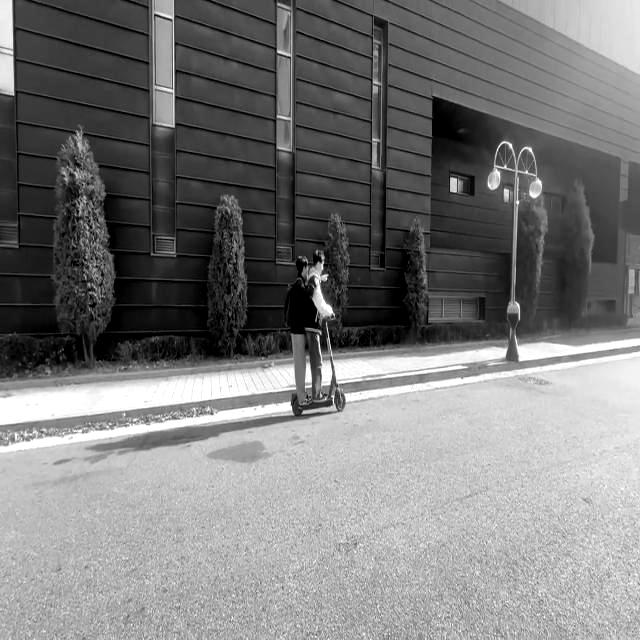bare_head: (290, 254, 311, 278), (310, 249, 327, 276)
human: (302, 244, 336, 403), (280, 254, 313, 405)
kickboard: (283, 386, 355, 417)
